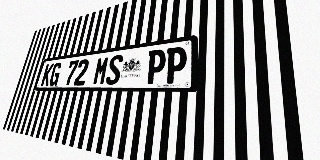2: (73, 59, 90, 86)
7: (63, 60, 79, 86)
G: (48, 62, 63, 86)
K: (40, 63, 54, 86)
M: (92, 56, 110, 85)
P: (164, 46, 187, 84), (145, 49, 167, 84)
S: (105, 54, 124, 85)
